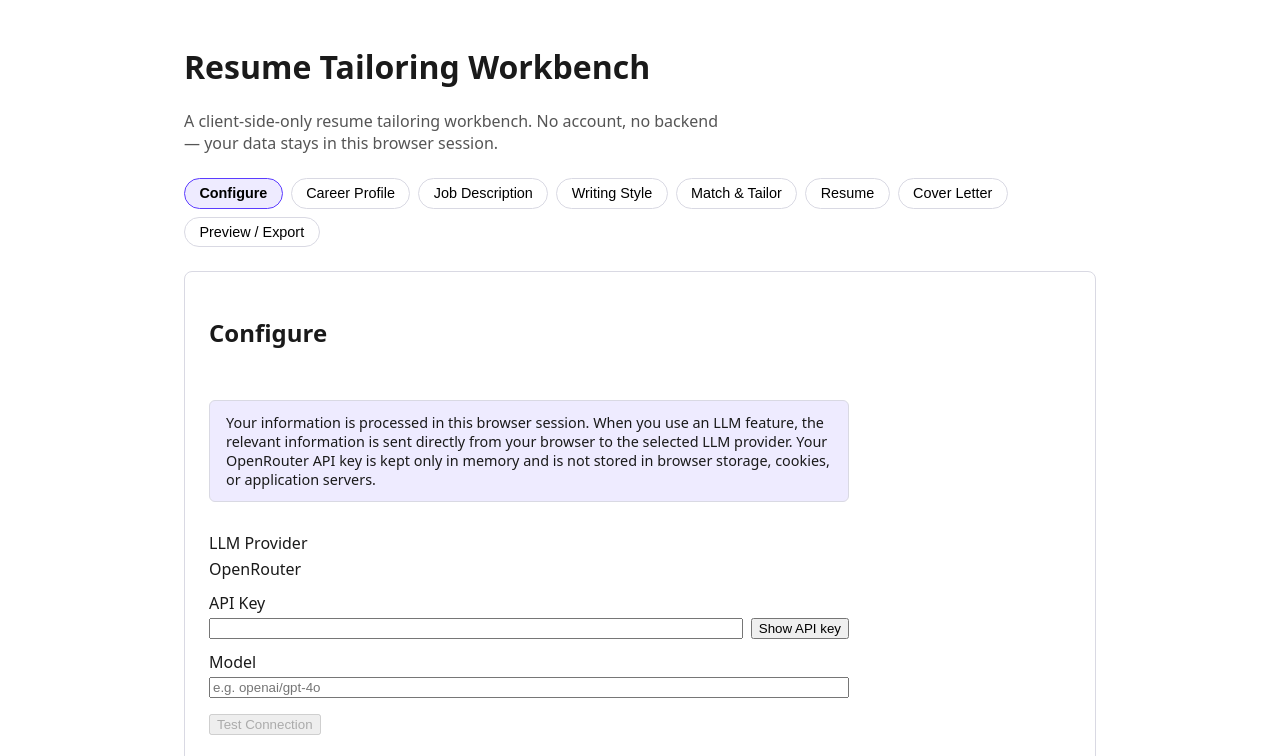
Test case: Writing Style workflow (Stage 7) › continues to resume tailoring after specifying a style
The image size is (1280, 756).
Click the button "Writing Style" at (612,193), box [556, 178, 668, 209]
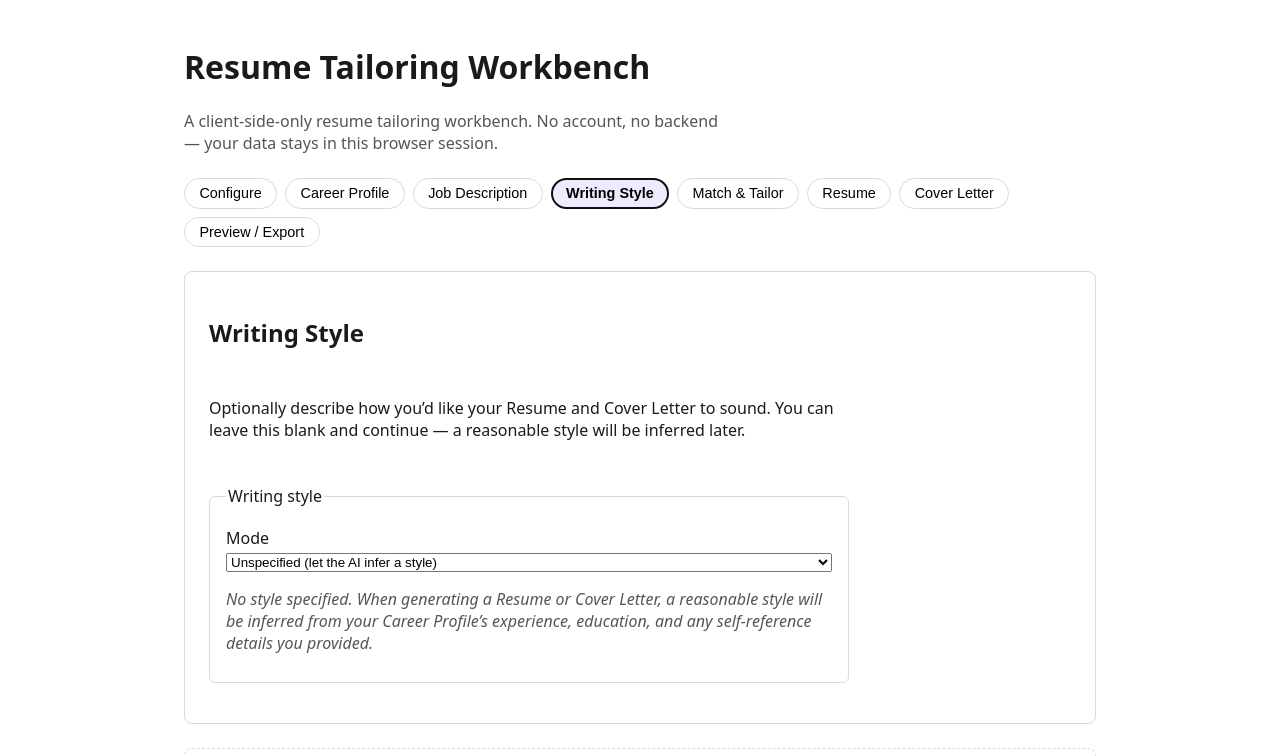
Select "Raw text" in the dropdown labelled "Mode" at (529,563), box [226, 553, 832, 572]
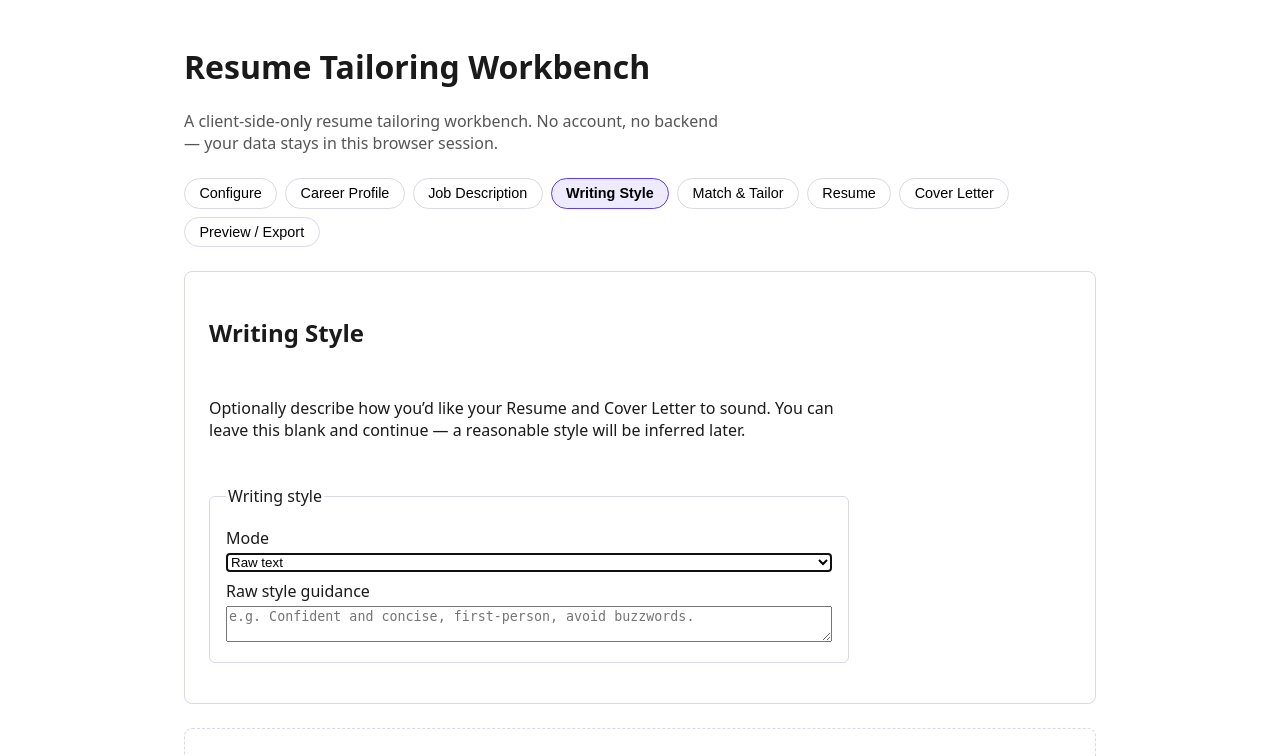
Type "Warm and encouraging." into the text box labelled "Raw style guidance" at (529,624), box [226, 606, 832, 642]
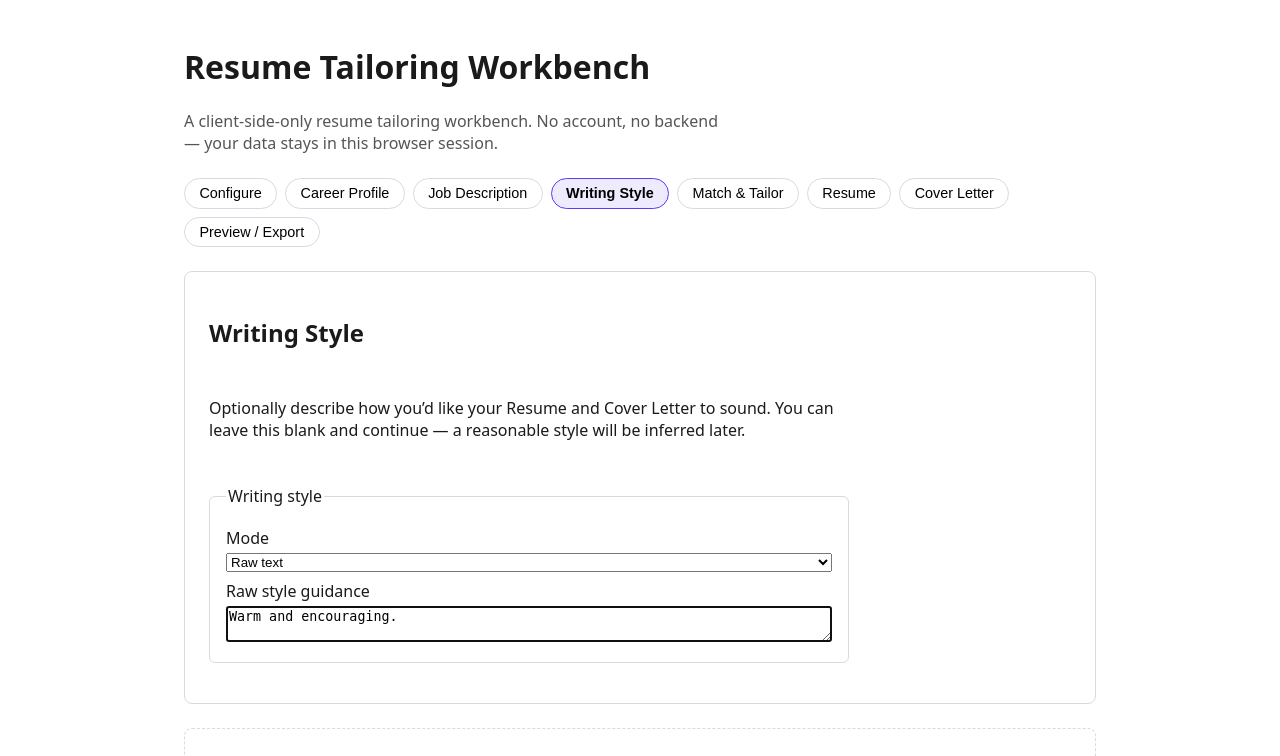
Click the button "Resume" at (849,193), box [807, 178, 891, 209]
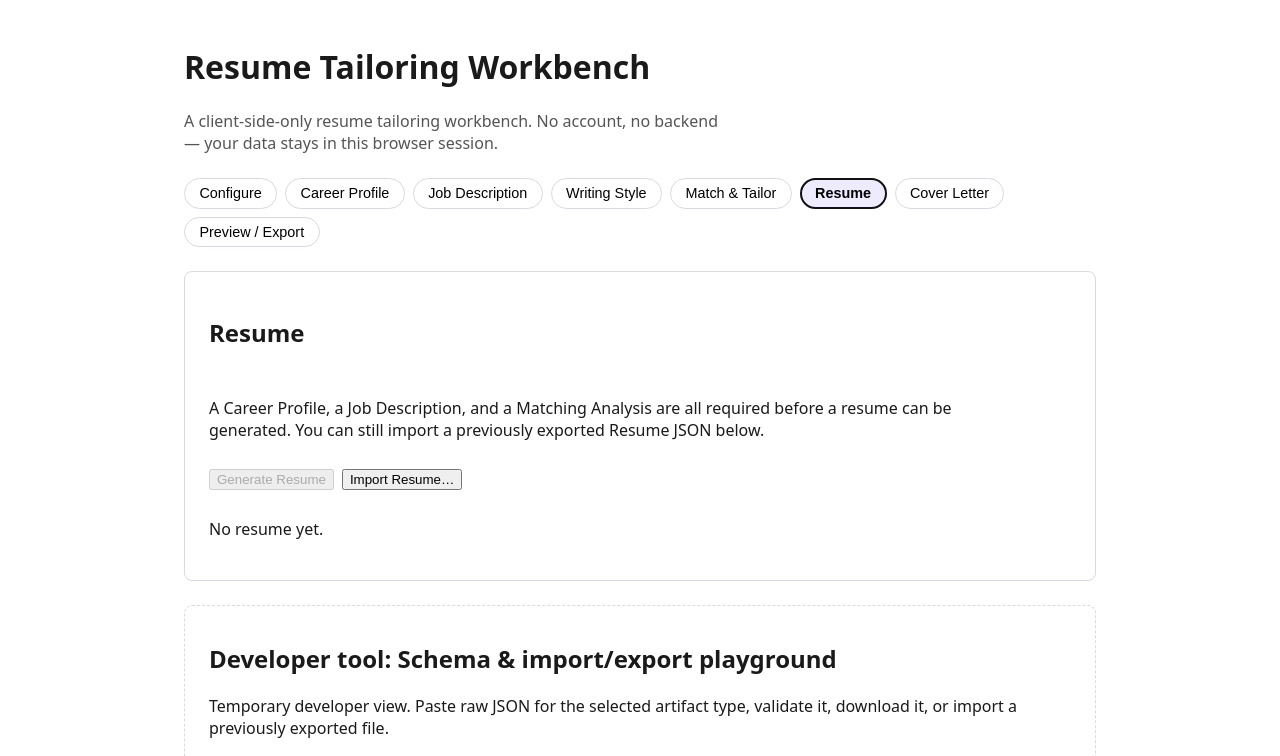
Expected: the heading "Resume" is shown, [209, 316, 304, 349]
